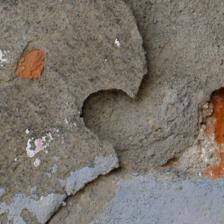Crack: (0, 8, 218, 112), (23, 66, 134, 159)
